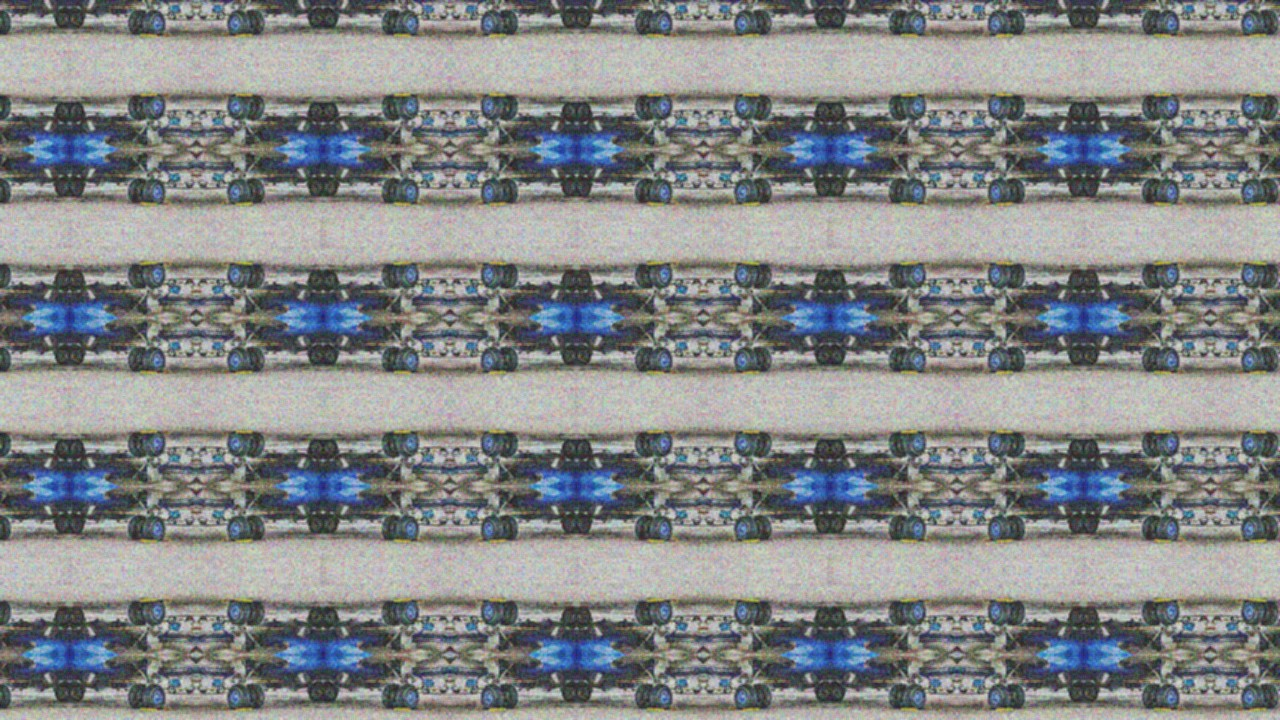chock: (138, 92, 156, 96), (235, 92, 253, 96), (392, 92, 410, 96), (489, 92, 507, 96), (646, 92, 664, 96), (743, 92, 761, 96), (900, 92, 918, 96), (997, 92, 1015, 96), (1154, 92, 1172, 96), (1251, 92, 1269, 96), (138, 261, 156, 265), (235, 261, 253, 265), (392, 261, 410, 265), (489, 261, 507, 265), (646, 261, 664, 265), (743, 261, 761, 265), (900, 261, 918, 265), (997, 261, 1015, 265), (1154, 261, 1172, 265), (1251, 261, 1269, 265), (138, 430, 156, 434), (235, 430, 253, 434), (392, 430, 410, 434), (489, 430, 507, 434), (646, 430, 664, 434), (743, 430, 761, 434), (900, 430, 918, 434), (997, 430, 1015, 434), (1154, 430, 1172, 434), (1251, 430, 1269, 434), (138, 599, 156, 603), (235, 599, 253, 603), (392, 599, 410, 603), (489, 599, 507, 603), (646, 599, 664, 603), (743, 599, 761, 603), (900, 599, 918, 603), (997, 599, 1015, 603), (1154, 599, 1172, 603), (1251, 599, 1269, 603), (154, 31, 170, 35), (221, 31, 237, 35), (408, 31, 424, 35), (475, 31, 491, 35), (662, 31, 678, 35), (729, 31, 745, 35), (916, 31, 932, 35), (983, 31, 999, 35), (1170, 31, 1186, 35), (1237, 31, 1253, 35), (154, 200, 170, 204), (221, 200, 237, 204), (408, 200, 424, 204), (475, 200, 491, 204), (662, 200, 678, 204), (729, 200, 745, 204), (916, 200, 932, 204), (983, 200, 999, 204), (1170, 200, 1186, 204), (1237, 200, 1253, 204), (154, 369, 170, 373), (221, 369, 237, 373), (408, 369, 424, 373), (475, 369, 491, 373), (662, 369, 678, 373), (729, 369, 745, 373), (916, 369, 932, 373), (983, 369, 999, 373), (1170, 369, 1186, 373), (1237, 369, 1253, 373), (154, 538, 170, 542), (221, 538, 237, 542), (408, 538, 424, 542), (475, 538, 491, 542), (662, 538, 678, 542), (729, 538, 745, 542), (916, 538, 932, 542), (983, 538, 999, 542), (1170, 538, 1186, 542), (1237, 538, 1253, 542), (154, 707, 170, 711), (221, 707, 237, 711), (408, 707, 424, 711), (475, 707, 491, 711), (662, 707, 678, 711), (729, 707, 745, 711), (916, 707, 932, 711), (983, 707, 999, 711), (1170, 707, 1186, 711), (1237, 707, 1253, 711), (138, 33, 156, 36), (235, 33, 253, 36), (392, 33, 410, 36), (489, 33, 507, 36), (646, 33, 664, 36), (743, 33, 761, 36), (900, 33, 918, 36), (997, 33, 1015, 36), (1154, 33, 1172, 36), (1251, 33, 1269, 36), (138, 202, 156, 205), (235, 202, 253, 205), (392, 202, 410, 205), (489, 202, 507, 205), (646, 202, 664, 205), (743, 202, 761, 205), (900, 202, 918, 205), (997, 202, 1015, 205), (1154, 202, 1172, 205), (1251, 202, 1269, 205), (138, 371, 156, 374), (235, 371, 253, 374), (392, 371, 410, 374), (489, 371, 507, 374), (646, 371, 664, 374), (743, 371, 761, 374), (900, 371, 918, 374), (997, 371, 1015, 374), (1154, 371, 1172, 374), (1251, 371, 1269, 374), (138, 540, 156, 543), (235, 540, 253, 543), (392, 540, 410, 543), (489, 540, 507, 543), (646, 540, 664, 543), (743, 540, 761, 543), (900, 540, 918, 543), (997, 540, 1015, 543), (1154, 540, 1172, 543), (1251, 540, 1269, 543), (138, 709, 156, 712), (235, 709, 253, 712), (392, 709, 410, 712), (489, 709, 507, 712), (646, 709, 664, 712), (743, 709, 761, 712), (900, 709, 918, 712), (997, 709, 1015, 712), (1154, 709, 1172, 712), (1251, 709, 1269, 712), (154, 94, 170, 97), (221, 94, 237, 97), (408, 94, 424, 97), (475, 94, 491, 97), (662, 94, 678, 97), (729, 94, 745, 97), (916, 94, 932, 97), (983, 94, 999, 97), (1170, 94, 1186, 97), (1237, 94, 1253, 97), (154, 263, 170, 266), (221, 263, 237, 266), (408, 263, 424, 266), (475, 263, 491, 266), (662, 263, 678, 266), (729, 263, 745, 266), (916, 263, 932, 266), (983, 263, 999, 266), (1170, 263, 1186, 266), (1237, 263, 1253, 266), (154, 432, 170, 435), (221, 432, 237, 435), (408, 432, 424, 435), (475, 432, 491, 435), (662, 432, 678, 435), (729, 432, 745, 435), (916, 432, 932, 435), (983, 432, 999, 435), (1170, 432, 1186, 435), (1237, 432, 1253, 435), (154, 601, 170, 604), (221, 601, 237, 604), (408, 601, 424, 604), (475, 601, 491, 604), (662, 601, 678, 604), (729, 601, 745, 604), (916, 601, 932, 604), (983, 601, 999, 604), (1170, 601, 1186, 604), (1237, 601, 1253, 604)
wheel: (142, 94, 165, 120), (226, 94, 249, 120), (396, 94, 419, 120), (480, 94, 503, 120), (650, 94, 673, 120), (734, 94, 757, 120), (904, 94, 927, 120), (988, 94, 1011, 120), (1158, 94, 1181, 120), (1242, 94, 1265, 120), (142, 263, 165, 289), (226, 263, 249, 289), (396, 263, 419, 289), (480, 263, 503, 289), (650, 263, 673, 289), (734, 263, 757, 289), (904, 263, 927, 289), (988, 263, 1011, 289), (1158, 263, 1181, 289), (1242, 263, 1265, 289), (142, 432, 165, 458), (226, 432, 249, 458), (396, 432, 419, 458), (480, 432, 503, 458), (650, 432, 673, 458), (734, 432, 757, 458), (904, 432, 927, 458), (988, 432, 1011, 458), (1158, 432, 1181, 458), (1242, 432, 1265, 458), (142, 601, 165, 627), (226, 601, 249, 627), (396, 601, 419, 627), (480, 601, 503, 627), (650, 601, 673, 627), (734, 601, 757, 627), (904, 601, 927, 627), (988, 601, 1011, 627), (1158, 601, 1181, 627), (1242, 601, 1265, 627), (142, 9, 165, 34), (226, 9, 249, 34), (396, 9, 419, 34), (480, 9, 503, 34), (650, 9, 673, 34), (734, 9, 757, 34), (904, 9, 927, 34), (988, 9, 1011, 34), (1158, 9, 1181, 34), (1242, 9, 1265, 34), (142, 178, 165, 203), (226, 178, 249, 203), (396, 178, 419, 203), (480, 178, 503, 203), (650, 178, 673, 203), (734, 178, 757, 203), (904, 178, 927, 203), (988, 178, 1011, 203), (1158, 178, 1181, 203), (1242, 178, 1265, 203), (142, 347, 165, 372), (226, 347, 249, 372), (396, 347, 419, 372), (480, 347, 503, 372), (650, 347, 673, 372), (734, 347, 757, 372), (904, 347, 927, 372), (988, 347, 1011, 372), (1158, 347, 1181, 372), (1242, 347, 1265, 372), (142, 516, 165, 541), (226, 516, 249, 541), (396, 516, 419, 541), (480, 516, 503, 541), (650, 516, 673, 541), (734, 516, 757, 541), (904, 516, 927, 541), (988, 516, 1011, 541), (1158, 516, 1181, 541), (1242, 516, 1265, 541), (142, 685, 165, 710), (226, 685, 249, 710), (396, 685, 419, 710), (480, 685, 503, 710), (650, 685, 673, 710), (734, 685, 757, 710), (904, 685, 927, 710), (988, 685, 1011, 710), (1158, 685, 1181, 710), (1242, 685, 1265, 710), (127, 8, 146, 33), (245, 8, 264, 33), (381, 8, 400, 33), (499, 8, 518, 33), (635, 8, 654, 33), (753, 8, 772, 33), (889, 8, 908, 33), (1007, 8, 1026, 33), (1143, 8, 1162, 33), (1261, 8, 1280, 33), (127, 95, 146, 120), (245, 95, 264, 120), (381, 95, 400, 120), (499, 95, 518, 120), (635, 95, 654, 120), (753, 95, 772, 120), (889, 95, 908, 120), (1007, 95, 1026, 120), (1143, 95, 1162, 120), (1261, 95, 1280, 120), (127, 177, 146, 202), (245, 177, 264, 202), (381, 177, 400, 202), (499, 177, 518, 202), (635, 177, 654, 202), (753, 177, 772, 202), (889, 177, 908, 202), (1007, 177, 1026, 202), (1143, 177, 1162, 202), (1261, 177, 1280, 202), (127, 264, 146, 289), (245, 264, 264, 289), (381, 264, 400, 289), (499, 264, 518, 289), (635, 264, 654, 289), (753, 264, 772, 289), (889, 264, 908, 289), (1007, 264, 1026, 289), (1143, 264, 1162, 289), (1261, 264, 1280, 289), (127, 346, 146, 371), (245, 346, 264, 371), (381, 346, 400, 371), (499, 346, 518, 371), (635, 346, 654, 371), (753, 346, 772, 371), (889, 346, 908, 371), (1007, 346, 1026, 371), (1143, 346, 1162, 371), (1261, 346, 1280, 371), (127, 433, 146, 458), (245, 433, 264, 458), (381, 433, 400, 458), (499, 433, 518, 458), (635, 433, 654, 458), (753, 433, 772, 458), (889, 433, 908, 458), (1007, 433, 1026, 458), (1143, 433, 1162, 458), (1261, 433, 1280, 458), (127, 602, 146, 627), (245, 602, 264, 627), (381, 602, 400, 627), (499, 602, 518, 627), (635, 602, 654, 627), (753, 602, 772, 627), (889, 602, 908, 627), (1007, 602, 1026, 627), (1143, 602, 1162, 627), (1261, 602, 1280, 627), (127, 516, 146, 540), (245, 516, 264, 540), (381, 516, 400, 540), (499, 516, 518, 540), (635, 516, 654, 540), (753, 516, 772, 540), (889, 516, 908, 540), (1007, 516, 1026, 540), (1143, 516, 1162, 540), (1261, 516, 1280, 540), (127, 685, 146, 709), (245, 685, 264, 709), (381, 685, 400, 709), (499, 685, 518, 709), (635, 685, 654, 709), (753, 685, 772, 709), (889, 685, 908, 709), (1007, 685, 1026, 709), (1143, 685, 1162, 709), (1261, 685, 1280, 709), (53, 101, 69, 122), (322, 101, 338, 122), (561, 101, 577, 122), (830, 101, 846, 122), (1069, 101, 1085, 122), (53, 7, 69, 27), (322, 7, 338, 27), (561, 7, 577, 27), (830, 7, 846, 27), (1069, 7, 1085, 27), (53, 176, 69, 196), (322, 176, 338, 196), (561, 176, 577, 196), (830, 176, 846, 196), (1069, 176, 1085, 196), (53, 270, 69, 290), (322, 270, 338, 290), (561, 270, 577, 290), (830, 270, 846, 290), (1069, 270, 1085, 290), (53, 345, 69, 365), (322, 345, 338, 365), (561, 345, 577, 365), (830, 345, 846, 365), (1069, 345, 1085, 365), (53, 440, 69, 460), (322, 440, 338, 460), (561, 440, 577, 460), (830, 440, 846, 460), (1069, 440, 1085, 460), (53, 514, 69, 534), (322, 514, 338, 534), (561, 514, 577, 534), (830, 514, 846, 534), (1069, 514, 1085, 534), (53, 609, 69, 629), (322, 609, 338, 629), (561, 609, 577, 629), (830, 609, 846, 629), (1069, 609, 1085, 629), (53, 683, 69, 703), (322, 683, 338, 703), (561, 683, 577, 703), (830, 683, 846, 703), (1069, 683, 1085, 703), (69, 101, 84, 122), (307, 101, 322, 122), (577, 101, 592, 122), (815, 101, 830, 122), (1085, 101, 1100, 122), (69, 7, 84, 27), (307, 7, 322, 27), (577, 7, 592, 27), (815, 7, 830, 27), (1085, 7, 1100, 27), (69, 176, 84, 196), (307, 176, 322, 196), (577, 176, 592, 196), (815, 176, 830, 196), (1085, 176, 1100, 196), (69, 270, 84, 290), (307, 270, 322, 290), (577, 270, 592, 290), (815, 270, 830, 290), (1085, 270, 1100, 290), (69, 345, 84, 365), (307, 345, 322, 365), (577, 345, 592, 365), (815, 345, 830, 365), (1085, 345, 1100, 365), (69, 440, 84, 460), (307, 440, 322, 460), (577, 440, 592, 460), (815, 440, 830, 460), (1085, 440, 1100, 460), (69, 514, 84, 534), (307, 514, 322, 534), (577, 514, 592, 534), (815, 514, 830, 534), (1085, 514, 1100, 534), (69, 609, 84, 629), (307, 609, 322, 629), (577, 609, 592, 629), (815, 609, 830, 629), (1085, 609, 1100, 629), (69, 683, 84, 703), (307, 683, 322, 703), (577, 683, 592, 703), (815, 683, 830, 703), (1085, 683, 1100, 703), (0, 8, 10, 33), (0, 95, 10, 120), (0, 177, 10, 202), (0, 264, 10, 289), (0, 346, 10, 371), (0, 433, 10, 458), (0, 602, 10, 627), (0, 516, 10, 540), (0, 685, 10, 709), (167, 10, 176, 19), (215, 10, 224, 19), (421, 10, 430, 19), (469, 10, 478, 19), (675, 10, 684, 19), (723, 10, 732, 19), (929, 10, 938, 19), (977, 10, 986, 19), (1183, 10, 1192, 19), (1231, 10, 1240, 19), (167, 110, 176, 119), (215, 110, 224, 119), (421, 110, 430, 119), (469, 110, 478, 119), (675, 110, 684, 119), (723, 110, 732, 119), (929, 110, 938, 119), (977, 110, 986, 119), (1183, 110, 1192, 119), (1231, 110, 1240, 119), (167, 179, 176, 188), (215, 179, 224, 188), (421, 179, 430, 188), (469, 179, 478, 188), (675, 179, 684, 188), (723, 179, 732, 188), (929, 179, 938, 188), (977, 179, 986, 188), (1183, 179, 1192, 188), (1231, 179, 1240, 188), (167, 348, 176, 357), (215, 348, 224, 357), (421, 348, 430, 357), (469, 348, 478, 357), (675, 348, 684, 357), (723, 348, 732, 357), (929, 348, 938, 357), (977, 348, 986, 357), (1183, 348, 1192, 357), (1231, 348, 1240, 357), (167, 517, 176, 526), (215, 517, 224, 526), (421, 517, 430, 526), (469, 517, 478, 526), (675, 517, 684, 526), (723, 517, 732, 526), (929, 517, 938, 526), (977, 517, 986, 526), (1183, 517, 1192, 526), (1231, 517, 1240, 526), (167, 617, 176, 626), (215, 617, 224, 626), (421, 617, 430, 626), (469, 617, 478, 626), (675, 617, 684, 626), (723, 617, 732, 626), (929, 617, 938, 626), (977, 617, 986, 626), (1183, 617, 1192, 626), (1231, 617, 1240, 626), (167, 686, 176, 695), (215, 686, 224, 695), (421, 686, 430, 695), (469, 686, 478, 695), (675, 686, 684, 695), (723, 686, 732, 695), (929, 686, 938, 695), (977, 686, 986, 695), (1183, 686, 1192, 695), (1231, 686, 1240, 695), (167, 279, 176, 287), (215, 279, 224, 287), (421, 279, 430, 287), (469, 279, 478, 287), (675, 279, 684, 287), (723, 279, 732, 287), (929, 279, 938, 287), (977, 279, 986, 287), (1183, 279, 1192, 287), (1231, 279, 1240, 287), (167, 448, 176, 456), (215, 448, 224, 456), (421, 448, 430, 456), (469, 448, 478, 456), (675, 448, 684, 456), (723, 448, 732, 456), (929, 448, 938, 456), (977, 448, 986, 456), (1183, 448, 1192, 456), (1231, 448, 1240, 456), (185, 183, 193, 187), (198, 183, 206, 187), (439, 183, 447, 187), (452, 183, 460, 187), (693, 183, 701, 187), (706, 183, 714, 187), (947, 183, 955, 187), (960, 183, 968, 187), (1201, 183, 1209, 187), (1214, 183, 1222, 187), (185, 352, 193, 356), (198, 352, 206, 356), (439, 352, 447, 356), (452, 352, 460, 356), (693, 352, 701, 356), (706, 352, 714, 356), (947, 352, 955, 356), (960, 352, 968, 356), (1201, 352, 1209, 356), (1214, 352, 1222, 356), (185, 15, 193, 18), (198, 15, 206, 18), (439, 15, 447, 18), (452, 15, 460, 18), (693, 15, 701, 18), (706, 15, 714, 18), (947, 15, 955, 18), (960, 15, 968, 18), (1201, 15, 1209, 18), (1214, 15, 1222, 18), (185, 111, 193, 114), (198, 111, 206, 114), (439, 111, 447, 114), (452, 111, 460, 114), (693, 111, 701, 114), (706, 111, 714, 114), (947, 111, 955, 114), (960, 111, 968, 114), (1201, 111, 1209, 114), (1214, 111, 1222, 114), (185, 280, 193, 283), (198, 280, 206, 283), (439, 280, 447, 283), (452, 280, 460, 283), (693, 280, 701, 283), (706, 280, 714, 283), (947, 280, 955, 283), (960, 280, 968, 283), (1201, 280, 1209, 283), (1214, 280, 1222, 283), (185, 449, 193, 452), (198, 449, 206, 452), (439, 449, 447, 452), (452, 449, 460, 452), (693, 449, 701, 452), (706, 449, 714, 452), (947, 449, 955, 452), (960, 449, 968, 452), (1201, 449, 1209, 452), (1214, 449, 1222, 452), (185, 522, 193, 525), (198, 522, 206, 525), (439, 522, 447, 525), (452, 522, 460, 525), (693, 522, 701, 525), (706, 522, 714, 525), (947, 522, 955, 525), (960, 522, 968, 525), (1201, 522, 1209, 525), (1214, 522, 1222, 525), (185, 618, 193, 621), (198, 618, 206, 621), (439, 618, 447, 621), (452, 618, 460, 621), (693, 618, 701, 621), (706, 618, 714, 621), (947, 618, 955, 621), (960, 618, 968, 621), (1201, 618, 1209, 621), (1214, 618, 1222, 621), (185, 691, 193, 694), (198, 691, 206, 694), (439, 691, 447, 694), (452, 691, 460, 694), (693, 691, 701, 694), (706, 691, 714, 694), (947, 691, 955, 694), (960, 691, 968, 694), (1201, 691, 1209, 694), (1214, 691, 1222, 694), (305, 12, 309, 17), (336, 12, 340, 17), (813, 12, 817, 17), (844, 12, 848, 17), (305, 111, 309, 116), (336, 111, 340, 116), (813, 111, 817, 116), (844, 111, 848, 116), (305, 181, 309, 186), (336, 181, 340, 186), (813, 181, 817, 186), (844, 181, 848, 186), (305, 281, 309, 286), (336, 281, 340, 286), (813, 281, 817, 286), (844, 281, 848, 286), (305, 350, 309, 355), (336, 350, 340, 355), (813, 350, 817, 355), (844, 350, 848, 355), (305, 519, 309, 524), (336, 519, 340, 524), (813, 519, 817, 524), (844, 519, 848, 524), (305, 688, 309, 693), (336, 688, 340, 693), (813, 688, 817, 693), (844, 688, 848, 693), (172, 110, 176, 114), (215, 110, 219, 114), (426, 110, 430, 114), (469, 110, 473, 114), (680, 110, 684, 114), (723, 110, 727, 114), (934, 110, 938, 114), (977, 110, 981, 114), (1188, 110, 1192, 114), (1231, 110, 1235, 114), (172, 183, 176, 187), (215, 183, 219, 187), (426, 183, 430, 187), (469, 183, 473, 187), (680, 183, 684, 187), (723, 183, 727, 187), (934, 183, 938, 187), (977, 183, 981, 187), (1188, 183, 1192, 187), (1231, 183, 1235, 187), (172, 279, 176, 283), (215, 279, 219, 283), (426, 279, 430, 283), (469, 279, 473, 283), (680, 279, 684, 283), (723, 279, 727, 283), (934, 279, 938, 283), (977, 279, 981, 283), (1188, 279, 1192, 283), (1231, 279, 1235, 283), (172, 448, 176, 452), (305, 450, 309, 454), (215, 448, 219, 452), (336, 450, 340, 454), (426, 448, 430, 452), (469, 448, 473, 452), (680, 448, 684, 452), (813, 450, 817, 454), (723, 448, 727, 452), (844, 450, 848, 454), (934, 448, 938, 452), (977, 448, 981, 452), (1188, 448, 1192, 452), (1231, 448, 1235, 452), (172, 617, 176, 621), (305, 619, 309, 623), (215, 617, 219, 621), (336, 619, 340, 623), (426, 617, 430, 621), (469, 617, 473, 621), (680, 617, 684, 621), (813, 619, 817, 623), (723, 617, 727, 621), (844, 619, 848, 623), (934, 617, 938, 621), (977, 617, 981, 621), (1188, 617, 1192, 621), (1231, 617, 1235, 621), (52, 12, 55, 17), (82, 12, 85, 17), (560, 12, 563, 17), (590, 12, 593, 17), (1068, 12, 1071, 17), (1098, 12, 1101, 17), (52, 111, 55, 116), (82, 111, 85, 116), (560, 111, 563, 116), (590, 111, 593, 116), (1068, 111, 1071, 116), (1098, 111, 1101, 116), (52, 181, 55, 186), (82, 181, 85, 186), (560, 181, 563, 186), (590, 181, 593, 186), (1068, 181, 1071, 186), (1098, 181, 1101, 186), (52, 281, 55, 286), (82, 281, 85, 286), (560, 281, 563, 286), (590, 281, 593, 286), (1068, 281, 1071, 286), (1098, 281, 1101, 286), (52, 350, 55, 355), (82, 350, 85, 355), (560, 350, 563, 355), (590, 350, 593, 355), (1068, 350, 1071, 355), (1098, 350, 1101, 355), (38, 450, 43, 453), (546, 450, 551, 453), (1054, 450, 1059, 453), (52, 519, 55, 524), (82, 519, 85, 524), (560, 519, 563, 524), (590, 519, 593, 524), (1068, 519, 1071, 524), (1098, 519, 1101, 524), (38, 619, 43, 622), (546, 619, 551, 622), (1054, 619, 1059, 622), (52, 688, 55, 693), (82, 688, 85, 693), (560, 688, 563, 693), (590, 688, 593, 693), (1068, 688, 1071, 693), (1098, 688, 1101, 693), (33, 14, 37, 17), (9, 13, 13, 16), (100, 14, 104, 17), (124, 13, 128, 16), (172, 15, 176, 18), (287, 14, 291, 17), (263, 13, 267, 16), (215, 15, 219, 18), (354, 14, 358, 17), (378, 13, 382, 16), (426, 15, 430, 18), (541, 14, 545, 17), (517, 13, 521, 16), (469, 15, 473, 18), (608, 14, 612, 17), (632, 13, 636, 16), (680, 15, 684, 18), (795, 14, 799, 17), (771, 13, 775, 16), (723, 15, 727, 18), (862, 14, 866, 17), (886, 13, 890, 16), (934, 15, 938, 18), (1049, 14, 1053, 17), (1025, 13, 1029, 16), (977, 15, 981, 18), (1116, 14, 1120, 17), (1140, 13, 1144, 16), (1188, 15, 1192, 18), (1231, 15, 1235, 18), (33, 112, 37, 115), (100, 112, 104, 115), (287, 112, 291, 115), (354, 112, 358, 115), (541, 112, 545, 115), (608, 112, 612, 115), (795, 112, 799, 115), (862, 112, 866, 115), (1049, 112, 1053, 115), (1116, 112, 1120, 115), (33, 183, 37, 186), (9, 182, 13, 185), (100, 183, 104, 186), (124, 182, 128, 185), (287, 183, 291, 186), (263, 182, 267, 185), (354, 183, 358, 186), (378, 182, 382, 185), (541, 183, 545, 186), (517, 182, 521, 185), (608, 183, 612, 186), (632, 182, 636, 185), (795, 183, 799, 186), (771, 182, 775, 185), (862, 183, 866, 186), (886, 182, 890, 185), (1049, 183, 1053, 186), (1025, 182, 1029, 185), (1116, 183, 1120, 186), (1140, 182, 1144, 185), (33, 281, 37, 284), (100, 281, 104, 284), (287, 281, 291, 284), (354, 281, 358, 284), (541, 281, 545, 284), (608, 281, 612, 284), (795, 281, 799, 284), (862, 281, 866, 284), (1049, 281, 1053, 284), (1116, 281, 1120, 284), (9, 351, 13, 354), (124, 351, 128, 354), (172, 353, 176, 356), (263, 351, 267, 354), (215, 353, 219, 356), (378, 351, 382, 354), (426, 353, 430, 356), (517, 351, 521, 354), (469, 353, 473, 356), (632, 351, 636, 354), (680, 353, 684, 356), (771, 351, 775, 354), (723, 353, 727, 356), (886, 351, 890, 354), (934, 353, 938, 356), (1025, 351, 1029, 354), (977, 353, 981, 356), (1140, 351, 1144, 354), (1188, 353, 1192, 356), (1231, 353, 1235, 356), (52, 450, 55, 454), (82, 450, 85, 454), (94, 450, 98, 453), (293, 450, 297, 453), (348, 450, 352, 453), (560, 450, 563, 454), (590, 450, 593, 454), (602, 450, 606, 453), (801, 450, 805, 453), (856, 450, 860, 453), (1068, 450, 1071, 454), (1098, 450, 1101, 454), (1110, 450, 1114, 453), (9, 520, 13, 523), (124, 520, 128, 523), (172, 522, 176, 525), (263, 520, 267, 523), (215, 522, 219, 525), (378, 520, 382, 523), (426, 522, 430, 525), (517, 520, 521, 523), (469, 522, 473, 525), (632, 520, 636, 523), (680, 522, 684, 525), (771, 520, 775, 523), (723, 522, 727, 525), (886, 520, 890, 523), (934, 522, 938, 525), (1025, 520, 1029, 523), (977, 522, 981, 525), (1140, 520, 1144, 523), (1188, 522, 1192, 525), (1231, 522, 1235, 525), (52, 619, 55, 623), (9, 620, 13, 623), (82, 619, 85, 623), (94, 619, 98, 622), (124, 620, 128, 623), (293, 619, 297, 622), (263, 620, 267, 623), (348, 619, 352, 622), (378, 620, 382, 623), (560, 619, 563, 623), (517, 620, 521, 623), (590, 619, 593, 623), (602, 619, 606, 622), (632, 620, 636, 623), (801, 619, 805, 622), (771, 620, 775, 623), (856, 619, 860, 622), (886, 620, 890, 623), (1068, 619, 1071, 623), (1025, 620, 1029, 623), (1098, 619, 1101, 623), (1110, 619, 1114, 622), (1140, 620, 1144, 623), (9, 689, 13, 692), (124, 689, 128, 692), (172, 691, 176, 694), (263, 689, 267, 692), (215, 691, 219, 694), (378, 689, 382, 692), (426, 691, 430, 694), (517, 689, 521, 692), (469, 691, 473, 694), (632, 689, 636, 692), (680, 691, 684, 694), (771, 689, 775, 692), (723, 691, 727, 694), (886, 689, 890, 692), (934, 691, 938, 694), (1025, 689, 1029, 692), (977, 691, 981, 694), (1140, 689, 1144, 692), (1188, 691, 1192, 694), (1231, 691, 1235, 694), (38, 14, 43, 16), (546, 14, 551, 16), (1054, 14, 1059, 16), (38, 112, 43, 114), (546, 112, 551, 114), (1054, 112, 1059, 114), (38, 183, 43, 185), (177, 183, 182, 185), (546, 183, 551, 185), (463, 183, 468, 185), (685, 183, 690, 185), (1054, 183, 1059, 185), (971, 183, 976, 185), (1193, 183, 1198, 185), (38, 281, 43, 283), (546, 281, 551, 283), (1054, 281, 1059, 283), (38, 352, 43, 354), (177, 352, 182, 354), (546, 352, 551, 354), (463, 352, 468, 354), (685, 352, 690, 354), (1054, 352, 1059, 354), (971, 352, 976, 354), (1193, 352, 1198, 354), (38, 521, 43, 523), (546, 521, 551, 523), (1054, 521, 1059, 523), (38, 690, 43, 692), (546, 690, 551, 692), (1054, 690, 1059, 692), (18, 14, 22, 16), (115, 14, 119, 16), (94, 14, 98, 16), (272, 14, 276, 16), (293, 14, 297, 16), (348, 14, 352, 16), (526, 14, 530, 16), (623, 14, 627, 16), (602, 14, 606, 16), (780, 14, 784, 16), (801, 14, 805, 16), (856, 14, 860, 16), (1034, 14, 1038, 16), (1131, 14, 1135, 16), (1110, 14, 1114, 16), (18, 113, 22, 115), (9, 113, 13, 115), (115, 113, 119, 115), (94, 112, 98, 114), (124, 113, 128, 115), (272, 113, 276, 115), (293, 112, 297, 114), (263, 113, 267, 115), (348, 112, 352, 114), (378, 113, 382, 115), (526, 113, 530, 115), (517, 113, 521, 115), (623, 113, 627, 115), (602, 112, 606, 114), (632, 113, 636, 115), (780, 113, 784, 115), (801, 112, 805, 114), (771, 113, 775, 115), (856, 112, 860, 114), (886, 113, 890, 115), (1034, 113, 1038, 115), (1025, 113, 1029, 115), (1131, 113, 1135, 115), (1110, 112, 1114, 114), (1140, 113, 1144, 115), (18, 182, 22, 184), (115, 182, 119, 184), (94, 183, 98, 185), (272, 182, 276, 184), (293, 183, 297, 185), (209, 183, 213, 185), (348, 183, 352, 185), (432, 183, 436, 185), (526, 182, 530, 184), (623, 182, 627, 184), (602, 183, 606, 185), (780, 182, 784, 184), (801, 183, 805, 185), (717, 183, 721, 185), (856, 183, 860, 185), (940, 183, 944, 185), (1034, 182, 1038, 184), (1131, 182, 1135, 184), (1110, 183, 1114, 185), (1225, 183, 1229, 185), (18, 282, 22, 284), (9, 282, 13, 284), (115, 282, 119, 284), (94, 281, 98, 283), (124, 282, 128, 284), (272, 282, 276, 284), (293, 281, 297, 283), (263, 282, 267, 284), (348, 281, 352, 283), (378, 282, 382, 284), (526, 282, 530, 284), (517, 282, 521, 284), (623, 282, 627, 284), (602, 281, 606, 283), (632, 282, 636, 284), (780, 282, 784, 284), (801, 281, 805, 283), (771, 282, 775, 284), (856, 281, 860, 283), (886, 282, 890, 284), (1034, 282, 1038, 284), (1025, 282, 1029, 284), (1131, 282, 1135, 284), (1110, 281, 1114, 283), (1140, 282, 1144, 284), (18, 351, 22, 353), (33, 352, 37, 354), (115, 351, 119, 353), (100, 352, 104, 354), (94, 352, 98, 354), (272, 351, 276, 353), (287, 352, 291, 354), (293, 352, 297, 354), (209, 352, 213, 354), (354, 352, 358, 354), (348, 352, 352, 354), (432, 352, 436, 354), (526, 351, 530, 353), (541, 352, 545, 354), (623, 351, 627, 353), (608, 352, 612, 354), (602, 352, 606, 354), (780, 351, 784, 353), (795, 352, 799, 354), (801, 352, 805, 354), (717, 352, 721, 354), (862, 352, 866, 354), (856, 352, 860, 354), (940, 352, 944, 354), (1034, 351, 1038, 353), (1049, 352, 1053, 354), (1131, 351, 1135, 353), (1116, 352, 1120, 354), (1110, 352, 1114, 354), (1225, 352, 1229, 354), (18, 451, 22, 453), (33, 450, 37, 452), (9, 451, 13, 453), (115, 451, 119, 453), (100, 450, 104, 452), (124, 451, 128, 453), (272, 451, 276, 453), (287, 450, 291, 452), (263, 451, 267, 453), (354, 450, 358, 452), (378, 451, 382, 453), (526, 451, 530, 453), (541, 450, 545, 452), (517, 451, 521, 453), (623, 451, 627, 453), (608, 450, 612, 452), (632, 451, 636, 453), (780, 451, 784, 453), (795, 450, 799, 452), (771, 451, 775, 453), (862, 450, 866, 452), (886, 451, 890, 453), (1034, 451, 1038, 453), (1049, 450, 1053, 452), (1025, 451, 1029, 453), (1131, 451, 1135, 453), (1116, 450, 1120, 452), (1140, 451, 1144, 453), (18, 521, 22, 523), (33, 521, 37, 523), (115, 521, 119, 523), (100, 521, 104, 523), (94, 521, 98, 523), (272, 521, 276, 523), (287, 521, 291, 523), (293, 521, 297, 523), (354, 521, 358, 523), (348, 521, 352, 523), (526, 521, 530, 523), (541, 521, 545, 523), (623, 521, 627, 523), (608, 521, 612, 523), (602, 521, 606, 523), (780, 521, 784, 523), (795, 521, 799, 523), (801, 521, 805, 523), (862, 521, 866, 523), (856, 521, 860, 523), (1034, 521, 1038, 523), (1049, 521, 1053, 523), (1131, 521, 1135, 523), (1116, 521, 1120, 523), (1110, 521, 1114, 523), (18, 620, 22, 622), (33, 619, 37, 621), (115, 620, 119, 622), (100, 619, 104, 621), (272, 620, 276, 622), (287, 619, 291, 621), (354, 619, 358, 621), (526, 620, 530, 622), (541, 619, 545, 621), (623, 620, 627, 622), (608, 619, 612, 621), (780, 620, 784, 622), (795, 619, 799, 621), (862, 619, 866, 621), (1034, 620, 1038, 622), (1049, 619, 1053, 621), (1131, 620, 1135, 622), (1116, 619, 1120, 621), (18, 690, 22, 692), (33, 690, 37, 692), (115, 690, 119, 692), (100, 690, 104, 692), (94, 690, 98, 692), (272, 690, 276, 692), (287, 690, 291, 692), (293, 690, 297, 692), (354, 690, 358, 692), (348, 690, 352, 692), (526, 690, 530, 692), (541, 690, 545, 692), (623, 690, 627, 692), (608, 690, 612, 692), (602, 690, 606, 692), (780, 690, 784, 692), (795, 690, 799, 692), (801, 690, 805, 692), (862, 690, 866, 692), (856, 690, 860, 692), (1034, 690, 1038, 692), (1049, 690, 1053, 692), (1131, 690, 1135, 692), (1116, 690, 1120, 692), (1110, 690, 1114, 692), (370, 14, 373, 16), (419, 12, 422, 14), (878, 14, 881, 16), (927, 12, 930, 14), (370, 113, 373, 115), (419, 114, 422, 116), (878, 113, 881, 115), (927, 114, 930, 116), (370, 182, 373, 184), (878, 182, 881, 184), (370, 282, 373, 284), (419, 283, 422, 285), (878, 282, 881, 284), (927, 283, 930, 285), (370, 351, 373, 353), (419, 350, 422, 352), (878, 351, 881, 353), (927, 350, 930, 352), (370, 451, 373, 453), (419, 452, 422, 454), (878, 451, 881, 453), (927, 452, 930, 454), (370, 521, 373, 523), (419, 519, 422, 521), (878, 521, 881, 523), (927, 519, 930, 521), (370, 620, 373, 622), (419, 621, 422, 623), (878, 620, 881, 622), (927, 621, 930, 623), (370, 690, 373, 692), (419, 688, 422, 690), (878, 690, 881, 692), (927, 688, 930, 690), (177, 15, 182, 16), (463, 15, 468, 16), (685, 15, 690, 16), (971, 15, 976, 16), (1193, 15, 1198, 16), (177, 113, 182, 114), (463, 113, 468, 114), (685, 113, 690, 114), (971, 113, 976, 114), (1193, 113, 1198, 114), (177, 282, 182, 283), (463, 282, 468, 283), (685, 282, 690, 283), (971, 282, 976, 283), (1193, 282, 1198, 283), (177, 451, 182, 452), (463, 451, 468, 452), (685, 451, 690, 452), (971, 451, 976, 452), (1193, 451, 1198, 452), (177, 522, 182, 523), (463, 522, 468, 523), (685, 522, 690, 523), (971, 522, 976, 523), (1193, 522, 1198, 523), (177, 620, 182, 621), (463, 620, 468, 621), (685, 620, 690, 621), (971, 620, 976, 621), (1193, 620, 1198, 621), (177, 691, 182, 692), (463, 691, 468, 692), (685, 691, 690, 692), (971, 691, 976, 692), (1193, 691, 1198, 692), (165, 12, 167, 14), (224, 12, 226, 14), (209, 15, 213, 16), (432, 15, 436, 16), (478, 12, 480, 14), (673, 12, 675, 14), (732, 12, 734, 14), (717, 15, 721, 16), (940, 15, 944, 16), (986, 12, 988, 14), (1181, 12, 1183, 14), (1240, 12, 1242, 14), (1225, 15, 1229, 16), (165, 114, 167, 116), (224, 114, 226, 116), (209, 113, 213, 114), (432, 113, 436, 114), (478, 114, 480, 116), (673, 114, 675, 116), (732, 114, 734, 116), (717, 113, 721, 114), (940, 113, 944, 114), (986, 114, 988, 116), (1181, 114, 1183, 116), (1240, 114, 1242, 116), (1225, 113, 1229, 114), (165, 283, 167, 285), (224, 283, 226, 285), (209, 282, 213, 283), (432, 282, 436, 283), (478, 283, 480, 285), (673, 283, 675, 285), (732, 283, 734, 285), (717, 282, 721, 283), (940, 282, 944, 283), (986, 283, 988, 285), (1181, 283, 1183, 285), (1240, 283, 1242, 285), (1225, 282, 1229, 283), (165, 350, 167, 352), (224, 350, 226, 352), (478, 350, 480, 352), (673, 350, 675, 352), (732, 350, 734, 352), (986, 350, 988, 352), (1181, 350, 1183, 352), (1240, 350, 1242, 352), (165, 452, 167, 454), (224, 452, 226, 454), (209, 451, 213, 452), (432, 451, 436, 452), (478, 452, 480, 454), (673, 452, 675, 454), (732, 452, 734, 454), (717, 451, 721, 452), (940, 451, 944, 452), (986, 452, 988, 454), (1181, 452, 1183, 454), (1240, 452, 1242, 454), (1225, 451, 1229, 452), (165, 519, 167, 521), (224, 519, 226, 521), (209, 522, 213, 523), (432, 522, 436, 523), (478, 519, 480, 521), (673, 519, 675, 521), (732, 519, 734, 521), (717, 522, 721, 523), (940, 522, 944, 523), (986, 519, 988, 521), (1181, 519, 1183, 521), (1240, 519, 1242, 521), (1225, 522, 1229, 523), (165, 621, 167, 623), (224, 621, 226, 623), (209, 620, 213, 621), (432, 620, 436, 621), (478, 621, 480, 623), (673, 621, 675, 623), (732, 621, 734, 623), (717, 620, 721, 621), (940, 620, 944, 621), (986, 621, 988, 623), (1181, 621, 1183, 623), (1240, 621, 1242, 623), (1225, 620, 1229, 621), (165, 688, 167, 690), (224, 688, 226, 690), (209, 691, 213, 692), (432, 691, 436, 692), (478, 688, 480, 690), (673, 688, 675, 690), (732, 688, 734, 690), (717, 691, 721, 692), (940, 691, 944, 692), (986, 688, 988, 690), (1181, 688, 1183, 690), (1240, 688, 1242, 690), (1225, 691, 1229, 692), (1279, 13, 1280, 16), (419, 182, 422, 183), (927, 182, 930, 183), (1279, 182, 1280, 185), (1279, 351, 1280, 354), (1279, 520, 1280, 523), (1279, 620, 1280, 623), (1279, 689, 1280, 692), (1279, 113, 1280, 115), (165, 182, 167, 183), (224, 182, 226, 183), (478, 182, 480, 183), (673, 182, 675, 183), (732, 182, 734, 183), (986, 182, 988, 183), (1181, 182, 1183, 183), (1240, 182, 1242, 183), (1279, 282, 1280, 284), (1279, 451, 1280, 453)
